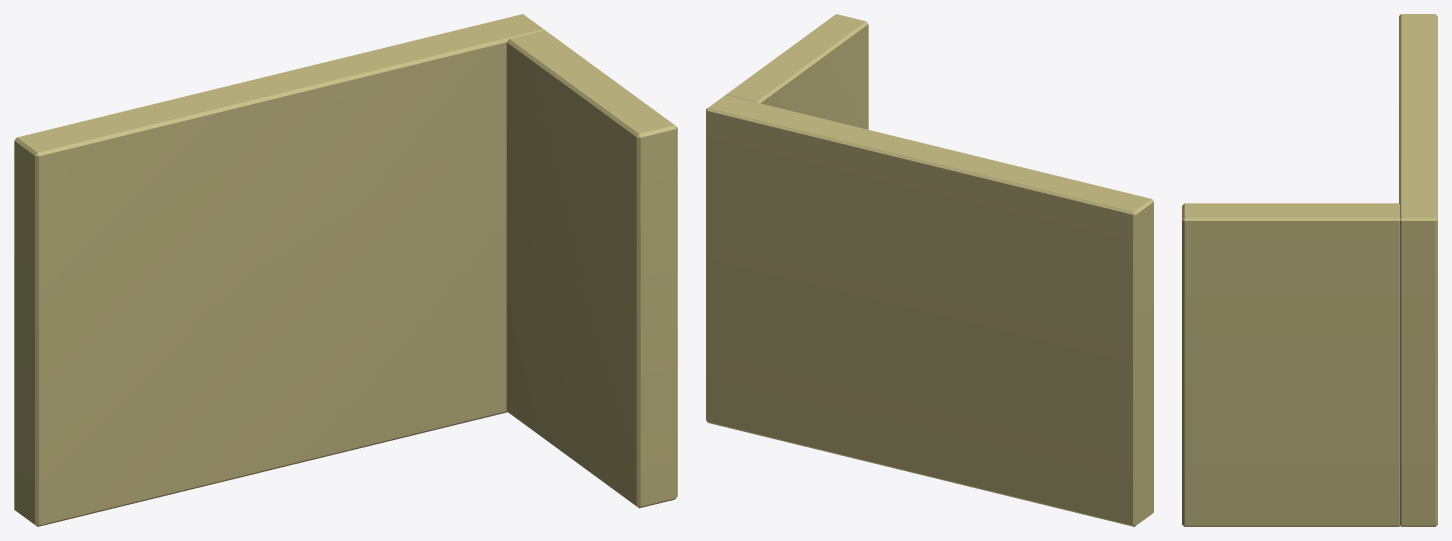
Rendered from BR_CornerPartition.glb.
The picture shows the model from 3 angles, left to right: view 1: azimuth 30°, elevation 25°; view 2: azimuth 150°, elevation 25°; view 3: azimuth 270°, elevation 25°; orthographic projection. The views are drawn at different scales.
Parts seen in each view (by area): view 1: Body; view 2: Body; view 3: Body.
Boxes of the visible parts, bbox=[...] form: Body: bbox=[14, 14, 677, 526]; Body: bbox=[706, 14, 1153, 526]; Body: bbox=[1182, 14, 1437, 526].
Bounding box in the file's own units: 20 × 14 × 10.5.
